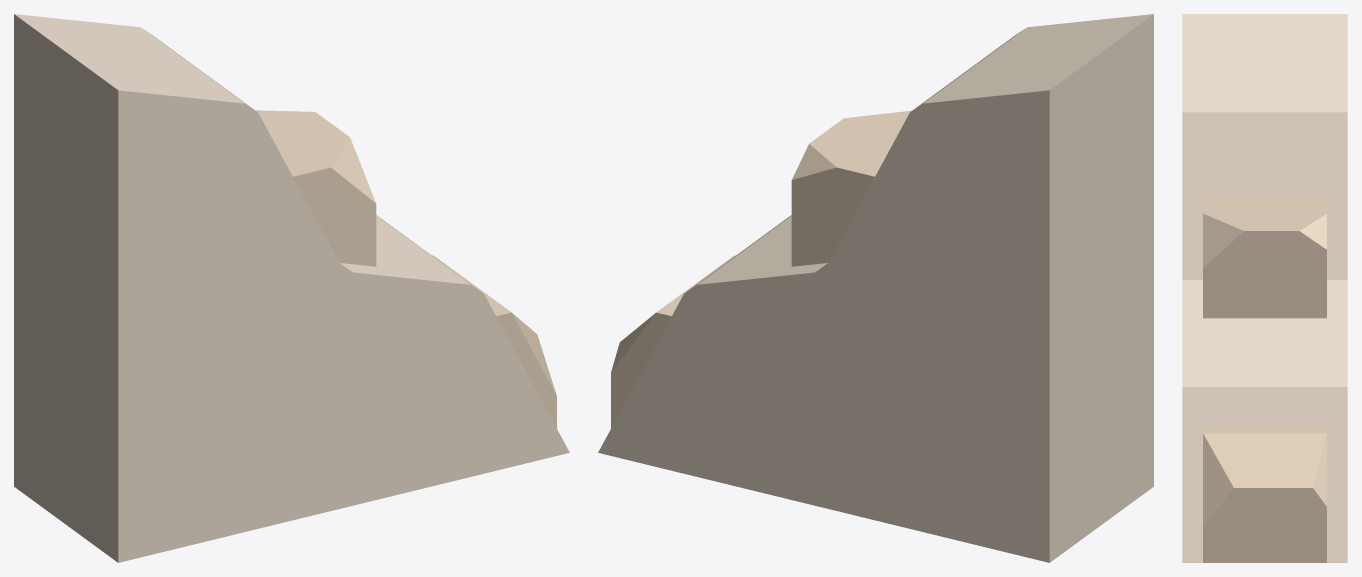
Rendered from temple_Wall_Ruined_Corner_Outer_2.glb.
3 renders of one model, left to right at view 1: azimuth 30°, elevation 25°; view 2: azimuth 150°, elevation 25°; view 3: azimuth 270°, elevation 25°, orthographic. The views are drawn at different scales.
Visible parts, largest first — view 1: object1; view 2: object1; view 3: object1.
Part boxes in pixels (bbox=[...]): object1: bbox=[14, 14, 569, 562]; object1: bbox=[598, 14, 1153, 562]; object1: bbox=[1182, 14, 1347, 562].
Bounding box in the file's own units: 0.5 × 0.5 × 0.2.
